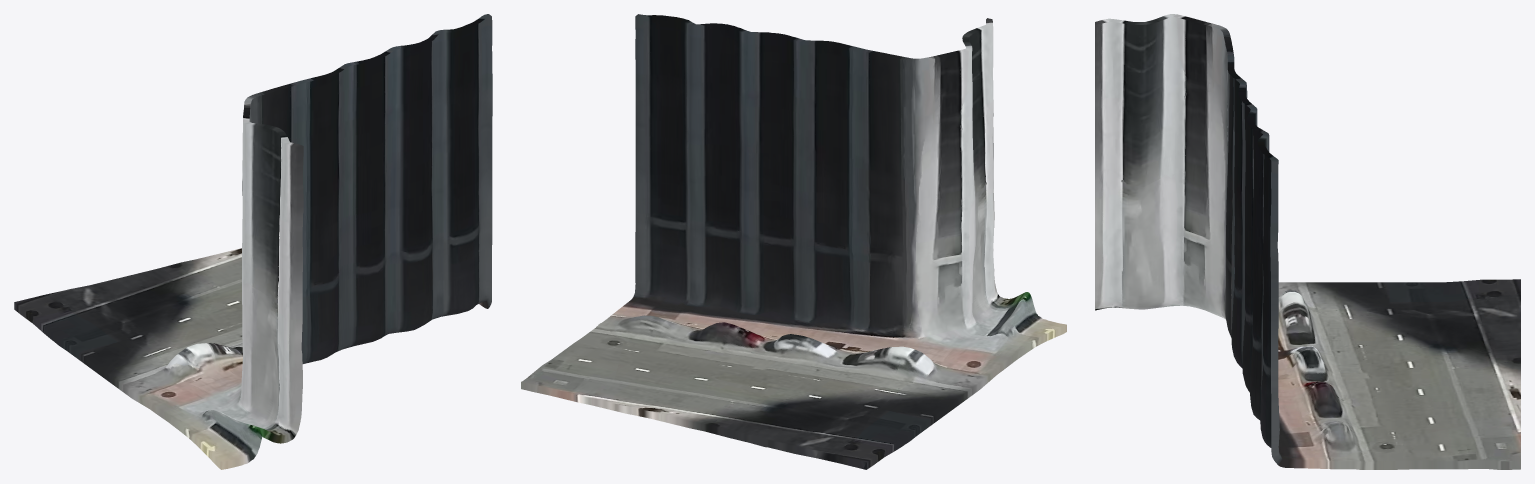
File: z20-167779-405229-h0-yup-uvflip-v3-world.glb
3 renders of one model, left to right at view 1: azimuth 30°, elevation 25°; view 2: azimuth 150°, elevation 25°; view 3: azimuth 270°, elevation 25°, orthographic. The views are drawn at different scales.
Size of the model in its own units: 30.16 by 24.6 by 30.32.
1 material, 1 textured.
